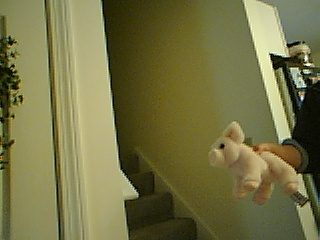piggy: (207, 120, 300, 208)
